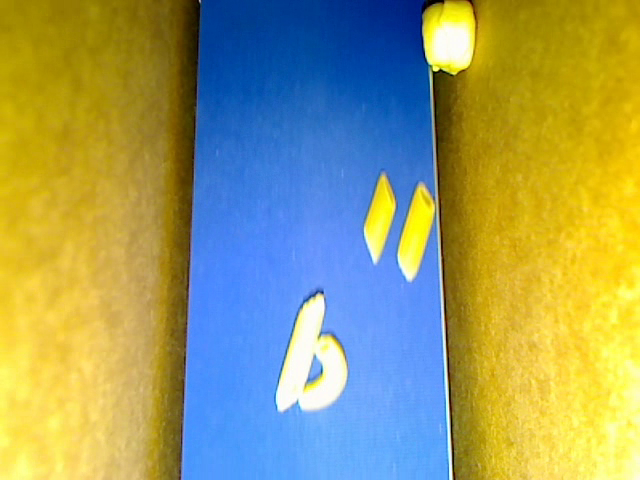elbow: (297, 333, 349, 411)
penne: (273, 293, 325, 414), (395, 182, 436, 283), (363, 170, 396, 264)
